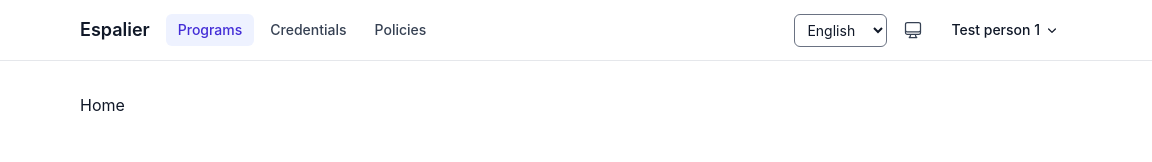
Test: the user menu of a mfa session holds the security settings of an mfa session and sign-out
Click the button "Test person 1": coordinates (1006, 30) top-left (939, 14), bottom-right (1072, 46)
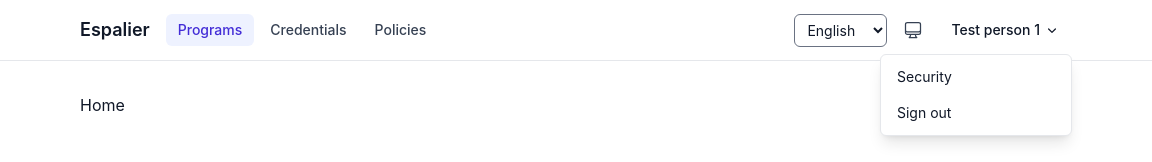
Now the menu items read "Security", "Sign out", in this order, box top-left (897, 68), bottom-right (952, 85); top-left (881, 95), bottom-right (1071, 131)
